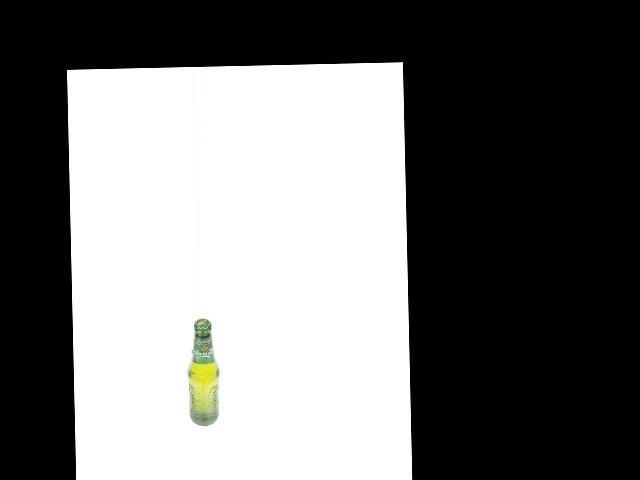beer: (186, 318, 219, 426)
